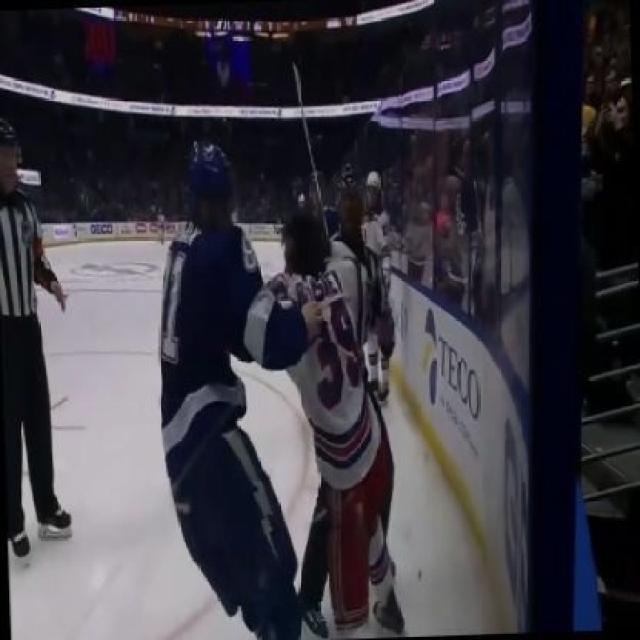fight: (119, 127, 438, 638)
non-fight: (0, 111, 95, 551)
